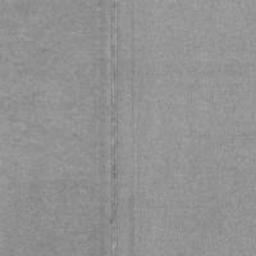Welding line: (109, 0, 119, 256)
